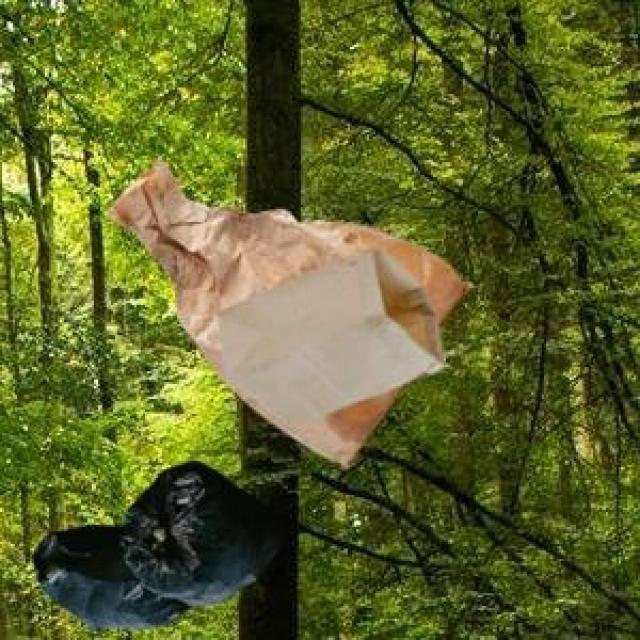miscellaneous trash: (30, 457, 277, 627)
paper: (102, 156, 469, 465), (213, 245, 440, 422)
